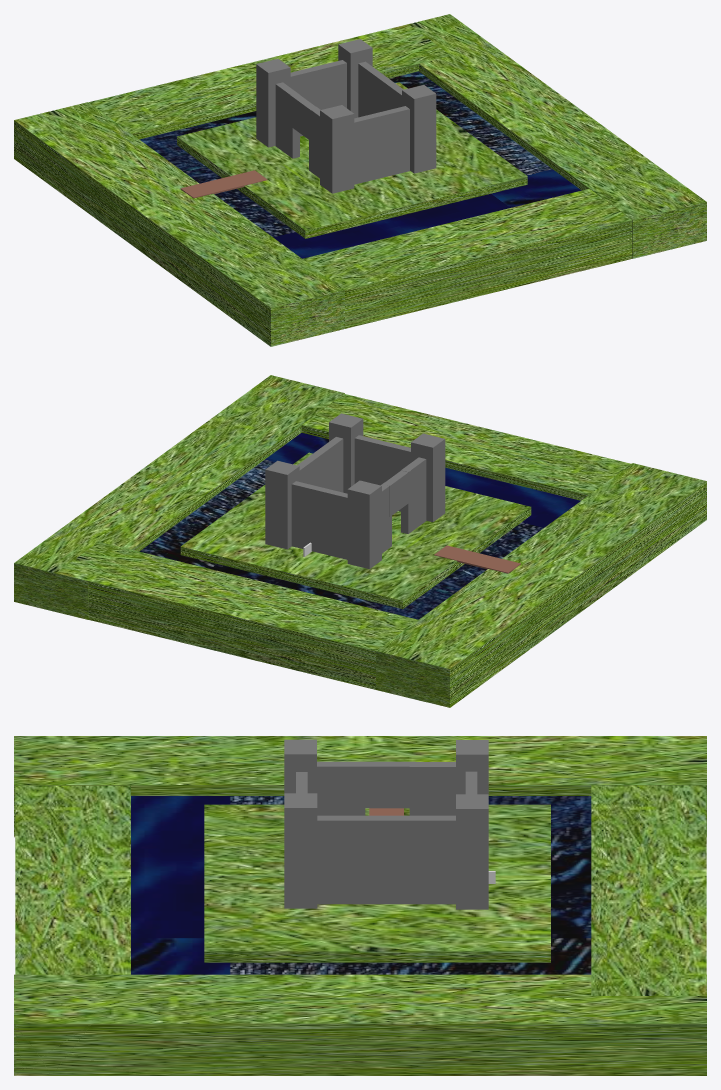
File: CASTLEPORJECT.glb
3 renders of one model, top to bottom at view 1: azimuth 30°, elevation 25°; view 2: azimuth 150°, elevation 25°; view 3: azimuth 270°, elevation 25°, orthographic. The views are drawn at different scales.
Parts seen in each view (by area): view 1: GRASSBACK.001, GRASSLEFT.001, GRASSBACK, CASTLE_GRASS, Cube.001, GRASSLEFT, wall 1, tower 3, tower 2, wall 2, tower 4, wall3 (+5 smaller); view 2: GRASSBACK.001, GRASSLEFT, GRASSBACK, CASTLE_GRASS, GRASSLEFT.001, Cube.001, wall 2, tower 4, tower 1, wall 1, tower 3, wall3 (+5 smaller); view 3: GRASSBACK, CASTLE_GRASS, GRASSBACK.001, Cube.001, GRASSLEFT, GRASSLEFT.001, wall3, tower 2, tower 1, door_right, door_left, door_top (+2 smaller).
Part boxes in pixels (x1,y1,x2,y2): GRASSBACK.001: [14, 102, 344, 346]; GRASSLEFT.001: [302, 188, 632, 328]; GRASSBACK: [408, 14, 706, 258]; CASTLE_GRASS: [177, 82, 527, 238]; Cube.001: [139, 71, 581, 258]; GRASSLEFT: [89, 24, 450, 139]; wall 1: [354, 106, 409, 184]; tower 3: [320, 105, 354, 193]; tower 2: [402, 85, 436, 173]; wall 2: [290, 60, 346, 136]; tower 4: [256, 59, 290, 147]; wall3: [358, 61, 403, 117]; GRASSBACK.001: [376, 463, 706, 707]; GRASSLEFT: [56, 542, 424, 701]; GRASSBACK: [14, 375, 344, 619]; CASTLE_GRASS: [180, 452, 531, 609]; GRASSLEFT.001: [301, 394, 631, 500]; Cube.001: [139, 432, 580, 619]; wall 2: [291, 481, 347, 559]; tower 4: [347, 480, 381, 569]; tower 1: [265, 460, 299, 549]; wall 1: [354, 435, 410, 511]; tower 3: [411, 433, 445, 522]; wall3: [297, 437, 343, 492]; GRASSBACK: [14, 974, 706, 1075]; CASTLE_GRASS: [204, 804, 550, 962]; GRASSBACK.001: [14, 736, 706, 837]; Cube.001: [131, 796, 591, 974]; GRASSLEFT: [591, 785, 706, 995]; GRASSLEFT.001: [15, 785, 130, 974]; wall3: [317, 815, 455, 904]; tower 2: [284, 793, 317, 908]; tower 1: [456, 794, 488, 909]; door_right: [317, 761, 365, 815]; door_left: [409, 762, 455, 815]; door_top: [365, 761, 415, 808].
Bounding box in the file's own units: 58.82 × 14.91 × 60.01.
Materials: 17 (6 with a texture image).
